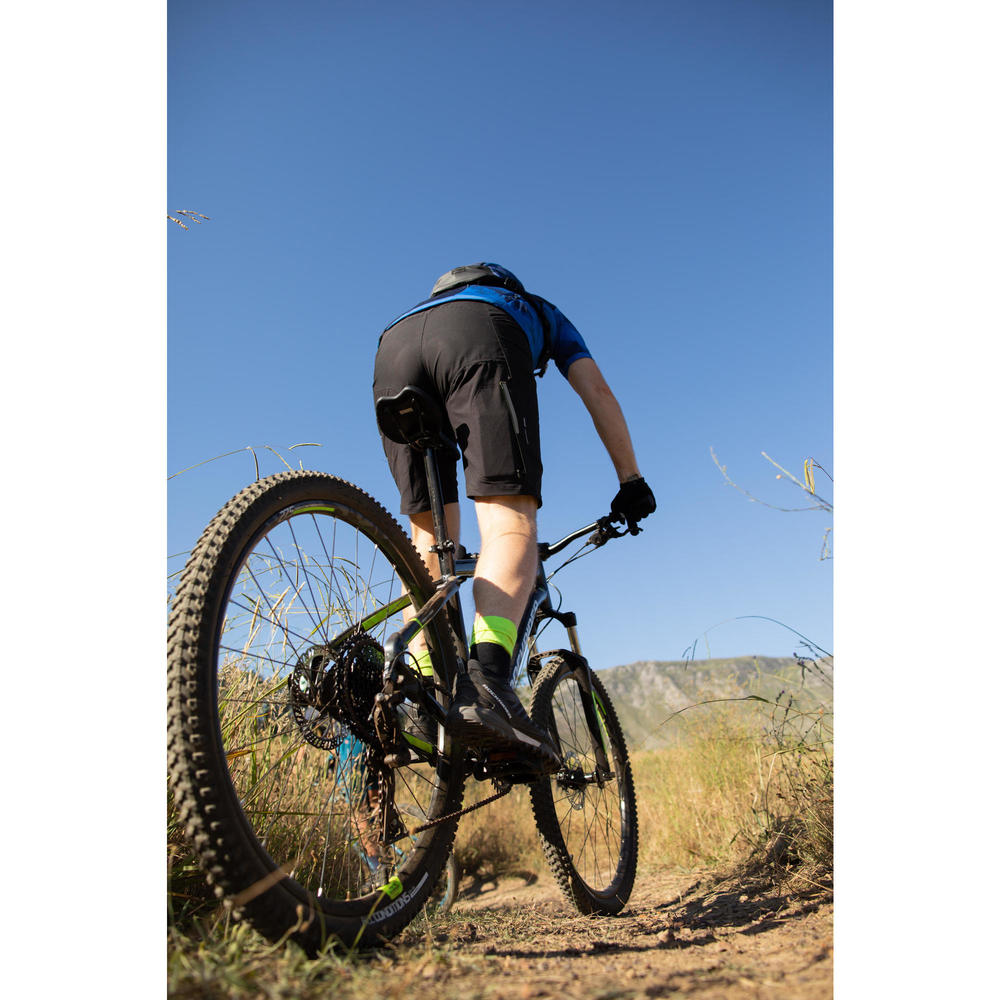MountainBike: (164, 457, 651, 952)
